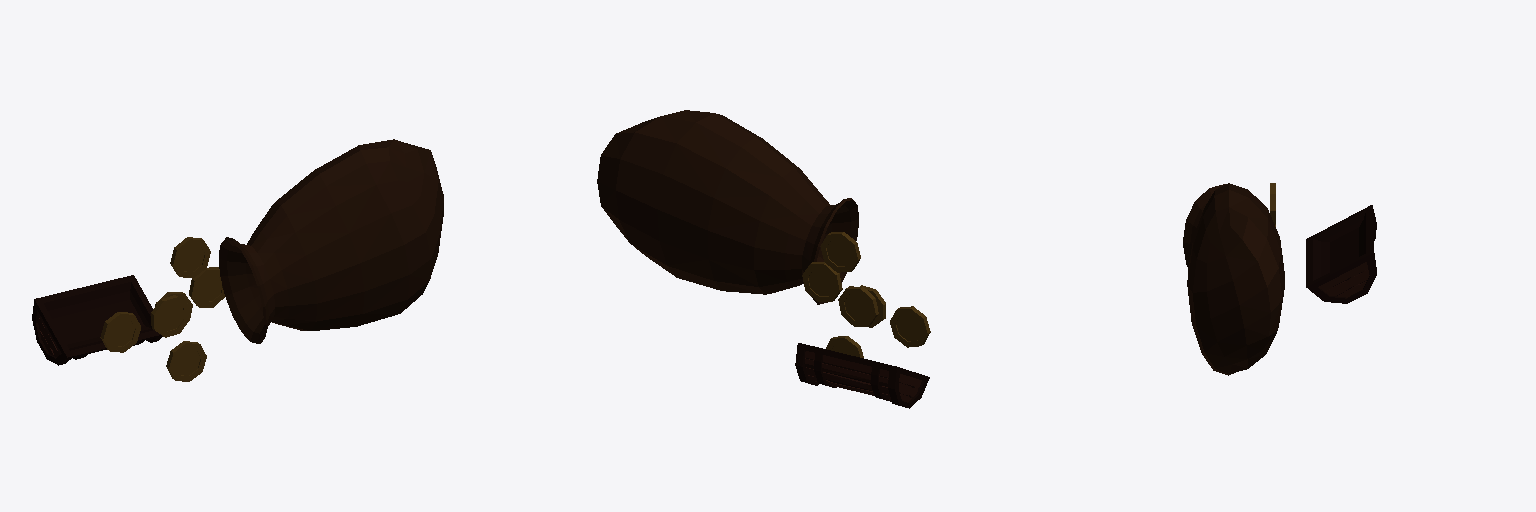
File: Chest_Top_Cylinder.obj
3 views of the same model, side by side, from view 1: azimuth 30°, elevation 25°; view 2: azimuth 150°, elevation 25°; view 3: azimuth 270°, elevation 25° (orthographic).
Visible parts, largest first — view 1: Bag_Coins_Cylinder.001, Chest_Top_Cylinder.007_Chest_Top_Cylinder.001; view 2: Bag_Coins_Cylinder.001, Chest_Top_Cylinder.007_Chest_Top_Cylinder.001; view 3: Bag_Coins_Cylinder.001, Chest_Top_Cylinder.007_Chest_Top_Cylinder.001.
Part boxes in pixels (left/top/right/bottom): Bag_Coins_Cylinder.001: left=100, top=139, right=443, bottom=381; Chest_Top_Cylinder.007_Chest_Top_Cylinder.001: left=32, top=275, right=162, bottom=365; Bag_Coins_Cylinder.001: left=597, top=110, right=930, bottom=357; Chest_Top_Cylinder.007_Chest_Top_Cylinder.001: left=795, top=343, right=929, bottom=408; Bag_Coins_Cylinder.001: left=1183, top=183, right=1284, bottom=375; Chest_Top_Cylinder.007_Chest_Top_Cylinder.001: left=1306, top=205, right=1376, bottom=303.
Bounding box in the file's own units: 4.16 × 2.38 × 2.